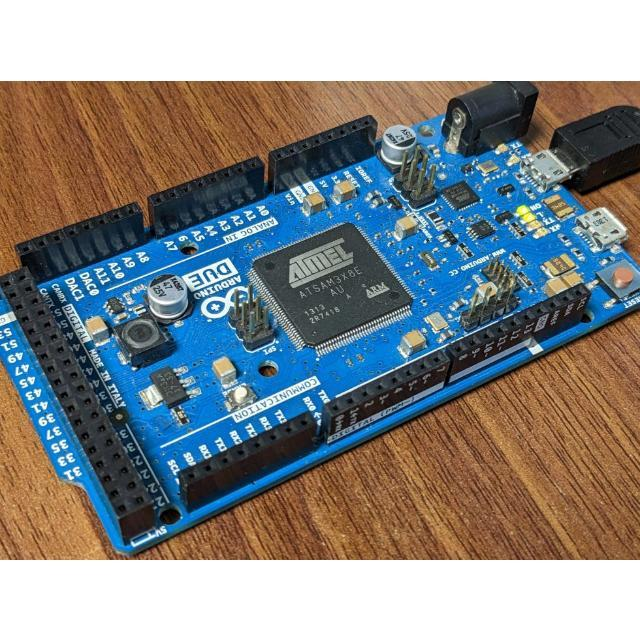Arduino-Due: (1, 83, 640, 552)
